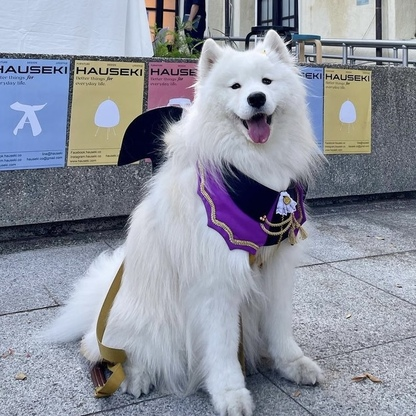samoyed: (39, 26, 338, 416)
